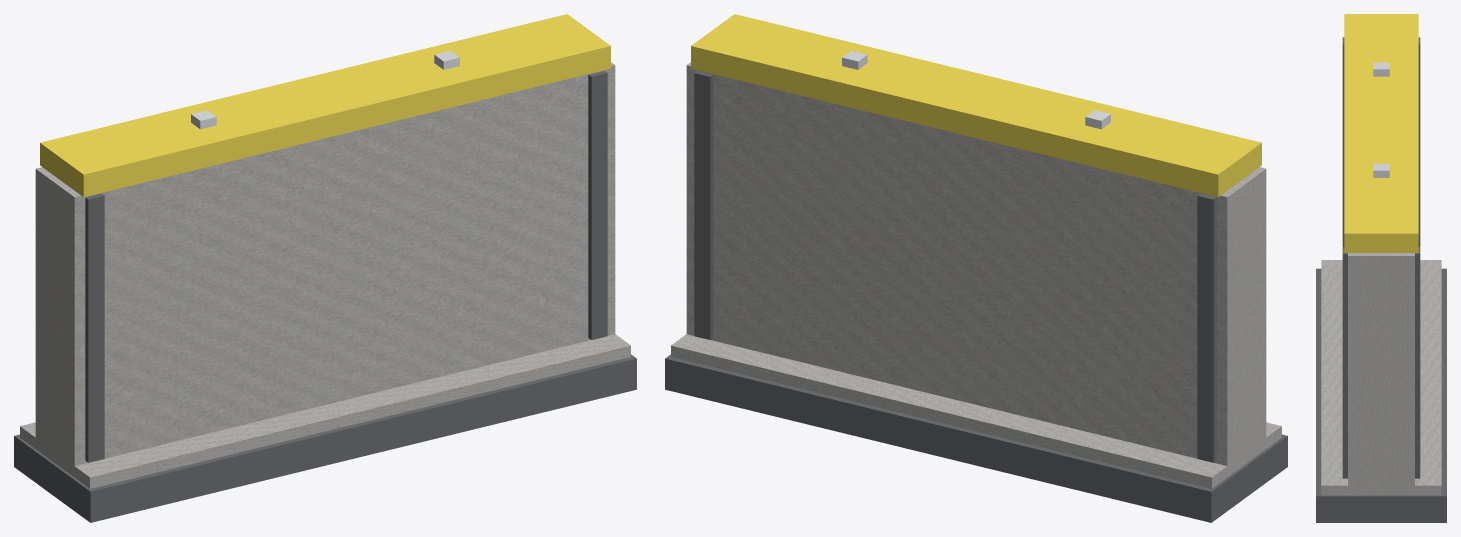
File: recycling-and-waste-transfer-yard-recycling-and-waste--a295aef4__34919.glb
The picture shows the model from 3 angles, left to right: view 1: azimuth 30°, elevation 25°; view 2: azimuth 150°, elevation 25°; view 3: azimuth 270°, elevation 25°; orthographic projection. The views are drawn at different scales.
Visible parts, largest first — view 1: recycling-and-waste-transfer-yard-material-bay-divider-wall_ (×4); view 2: recycling-and-waste-transfer-yard-material-bay-divider-wall_ (×4); view 3: recycling-and-waste-transfer-yard-material-bay-divider-wall_ (×4).
Part boxes in pixels (bbox=[...]): recycling-and-waste-transfer-yard-material-bay-divider-wall_ (×4): bbox=[14, 14, 636, 522]; recycling-and-waste-transfer-yard-material-bay-divider-wall_ (×4): bbox=[665, 14, 1287, 522]; recycling-and-waste-transfer-yard-material-bay-divider-wall_ (×4): bbox=[1316, 14, 1446, 522].
Size of the model in its own units: 4.04 by 2.42 by 0.9799.
4 materials, 1 textured.
